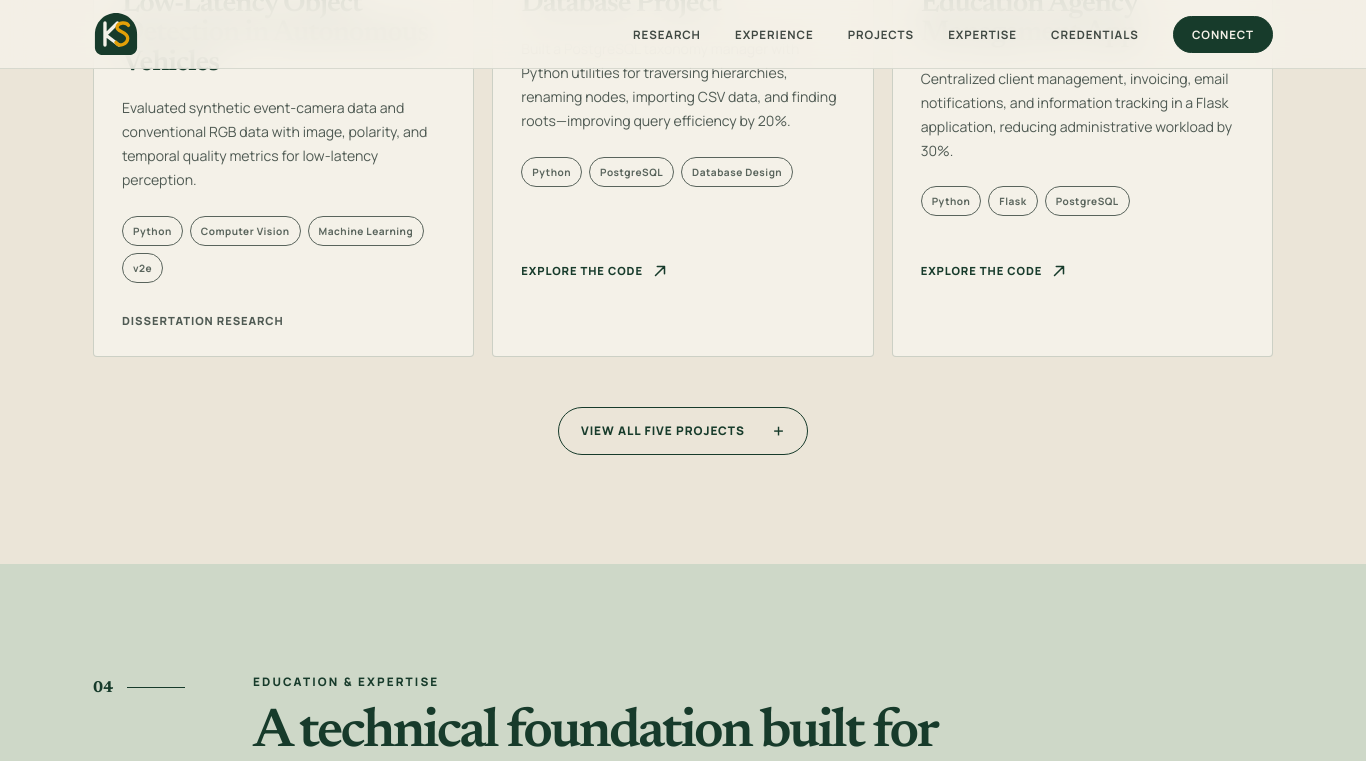
Test: portfolio › reveals all five projects on request
The width and height of the screenshot is (1366, 761).
(page scrolled)
Check: the heading "School Management System" is not shown
Step 1. Click the button "View all five projects +" → (683, 431), box top-left (558, 407), bottom-right (808, 455)
(page scrolled)
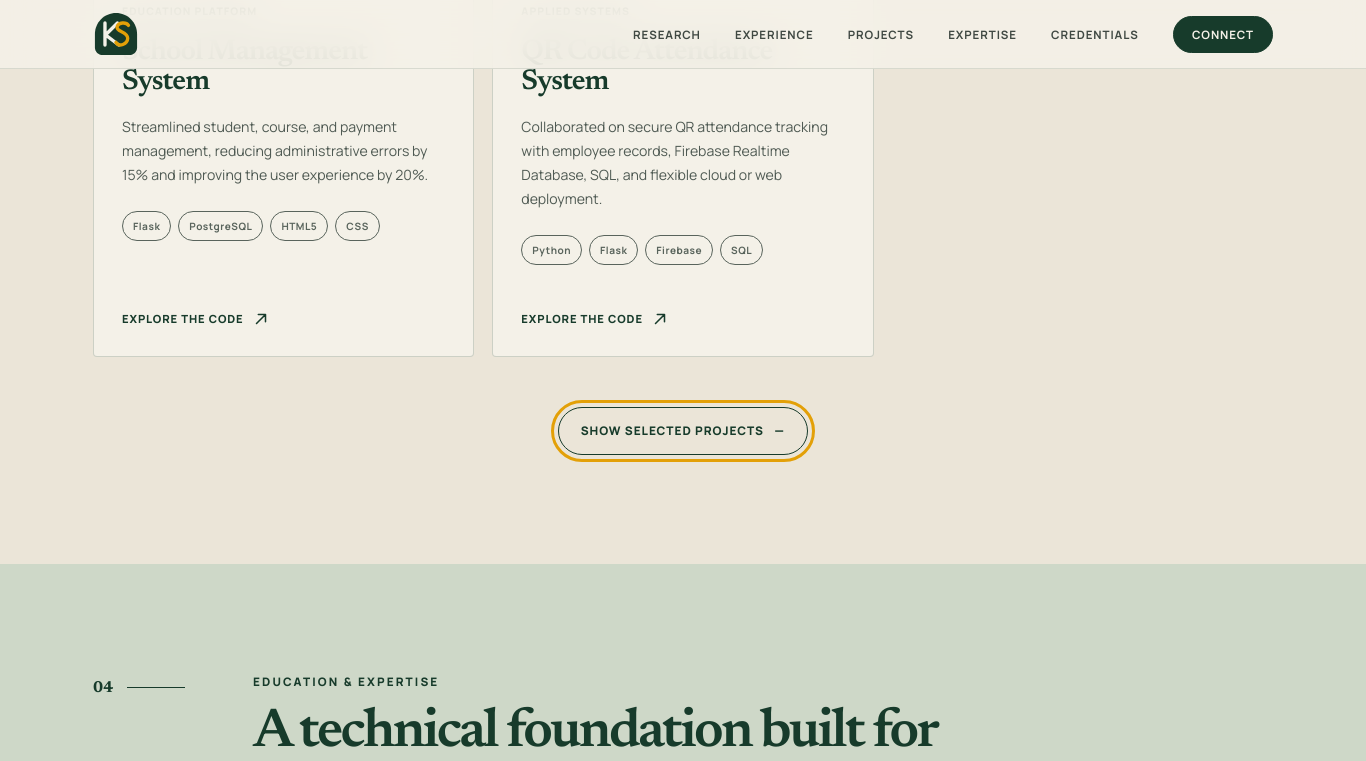
Check: the heading "School Management System" is shown, box top-left (122, 38), bottom-right (367, 96)
Check: the heading "QR Code Attendance System" is shown, box top-left (521, 38), bottom-right (772, 96)
Check: the button "Show selected projects −" is expanded, box top-left (558, 407), bottom-right (808, 455)
